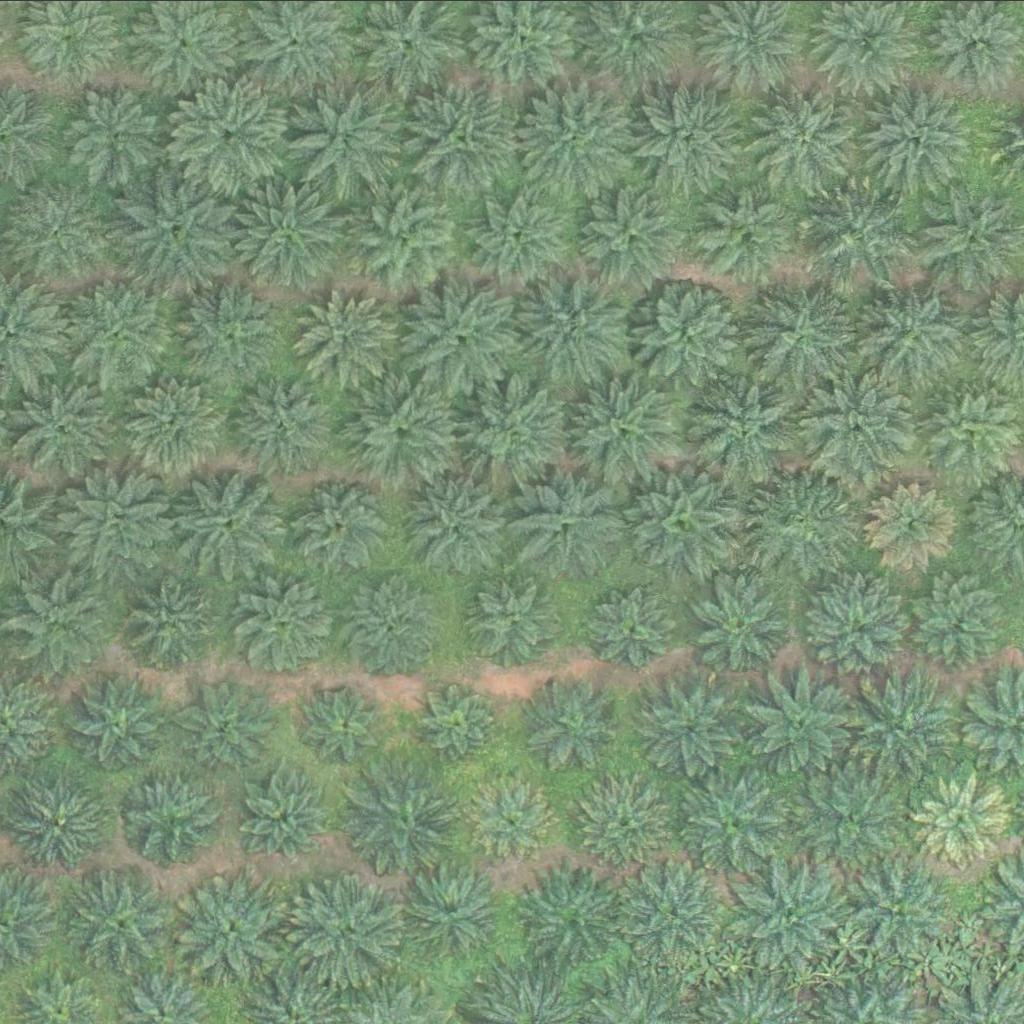Kelapa_Sawit: (515, 861, 629, 974), (620, 856, 734, 969), (674, 764, 788, 877), (800, 758, 914, 871), (745, 666, 859, 779), (346, 183, 460, 296), (404, 78, 518, 191), (522, 78, 636, 191), (173, 76, 286, 189), (285, 79, 398, 192), (3, 175, 116, 288), (122, 170, 235, 283), (234, 177, 347, 290), (58, 468, 171, 581), (174, 468, 287, 581), (286, 470, 399, 583), (61, 860, 174, 973), (399, 469, 512, 582), (512, 463, 625, 576), (626, 463, 739, 576), (567, 373, 680, 486), (693, 371, 806, 484), (803, 368, 916, 481), (635, 82, 748, 195), (753, 75, 866, 188), (856, 276, 969, 389), (843, 668, 956, 781), (287, 877, 401, 989), (733, 854, 847, 966), (62, 273, 175, 385), (175, 275, 288, 387), (4, 371, 117, 483), (177, 868, 290, 980), (352, 761, 465, 873), (748, 463, 861, 575), (345, 378, 458, 490), (461, 375, 574, 487), (405, 276, 518, 388), (517, 270, 630, 382), (629, 276, 742, 388), (742, 281, 855, 393), (572, 177, 685, 289), (802, 180, 915, 292), (856, 83, 969, 195), (294, 284, 395, 384), (126, 376, 227, 476), (232, 371, 333, 471), (9, 576, 110, 676), (122, 574, 223, 674), (69, 673, 170, 773), (4, 776, 105, 876), (118, 770, 219, 870), (402, 861, 503, 961), (518, 671, 619, 771), (643, 676, 744, 776), (468, 570, 569, 670), (691, 577, 792, 677), (695, 180, 796, 280), (921, 376, 1022, 476), (907, 569, 1008, 669), (68, 81, 168, 181), (238, 573, 338, 673), (342, 573, 442, 673), (174, 675, 274, 775), (807, 577, 907, 677), (473, 185, 573, 285), (847, 863, 947, 963), (471, 776, 559, 864), (411, 675, 499, 763), (587, 585, 675, 673), (868, 481, 956, 569), (240, 775, 328, 862), (576, 777, 664, 864), (913, 775, 1001, 862), (306, 688, 382, 763)
